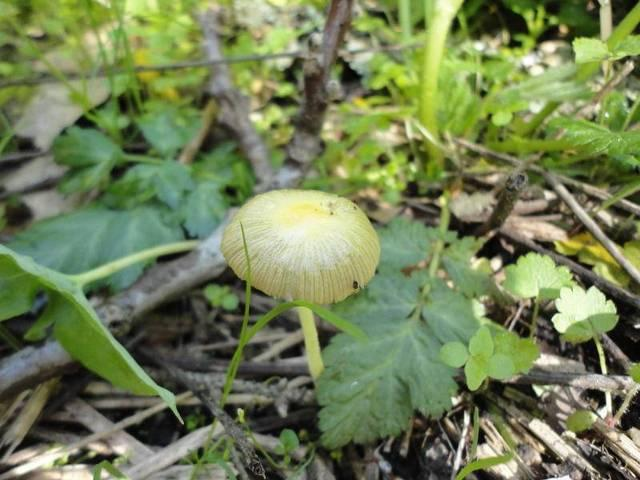edible_mushroom: (219, 187, 381, 380)
